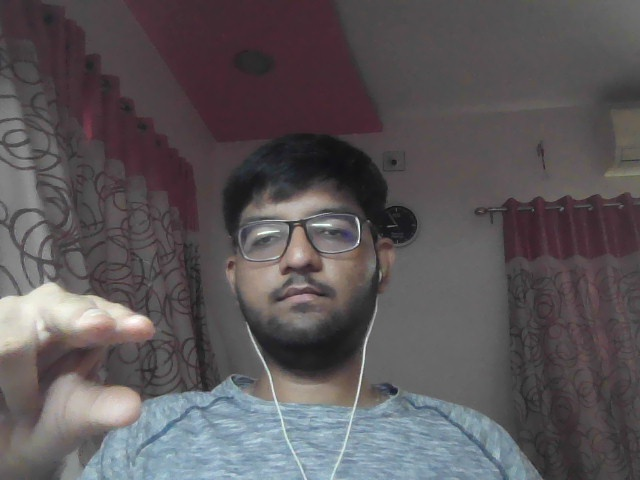ના: (1, 273, 161, 480)
